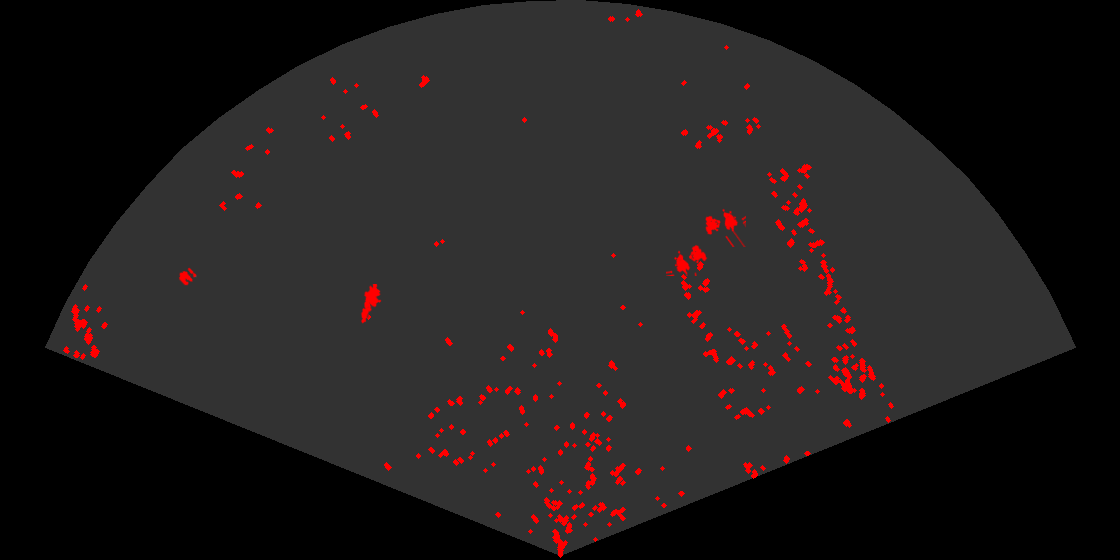ball: (177, 266, 198, 287)
cage: (704, 207, 746, 247), (666, 243, 709, 276)
frogman: (359, 284, 383, 324)
